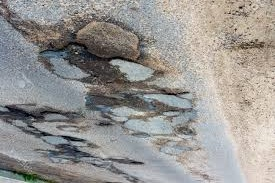pothole: (73, 19, 140, 61), (22, 21, 78, 49), (87, 83, 139, 104), (69, 60, 110, 81), (6, 105, 62, 118), (133, 105, 169, 118), (157, 84, 188, 97), (58, 133, 89, 144), (110, 156, 144, 163), (97, 118, 117, 129)
